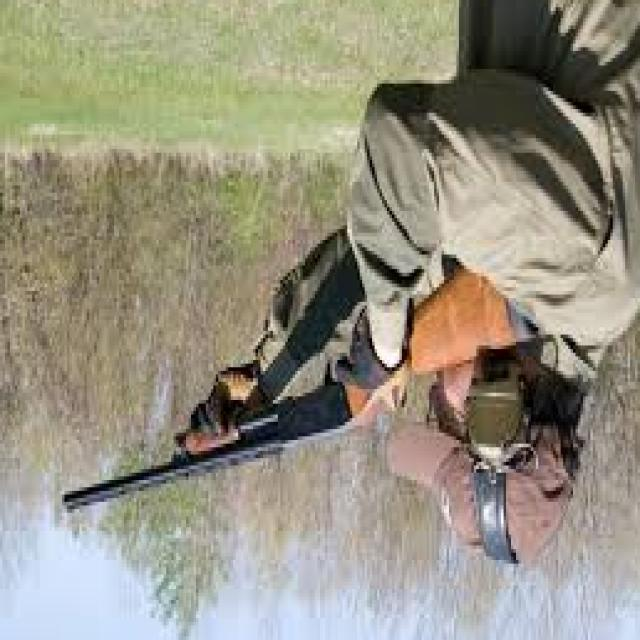gun: (55, 204, 545, 535)
